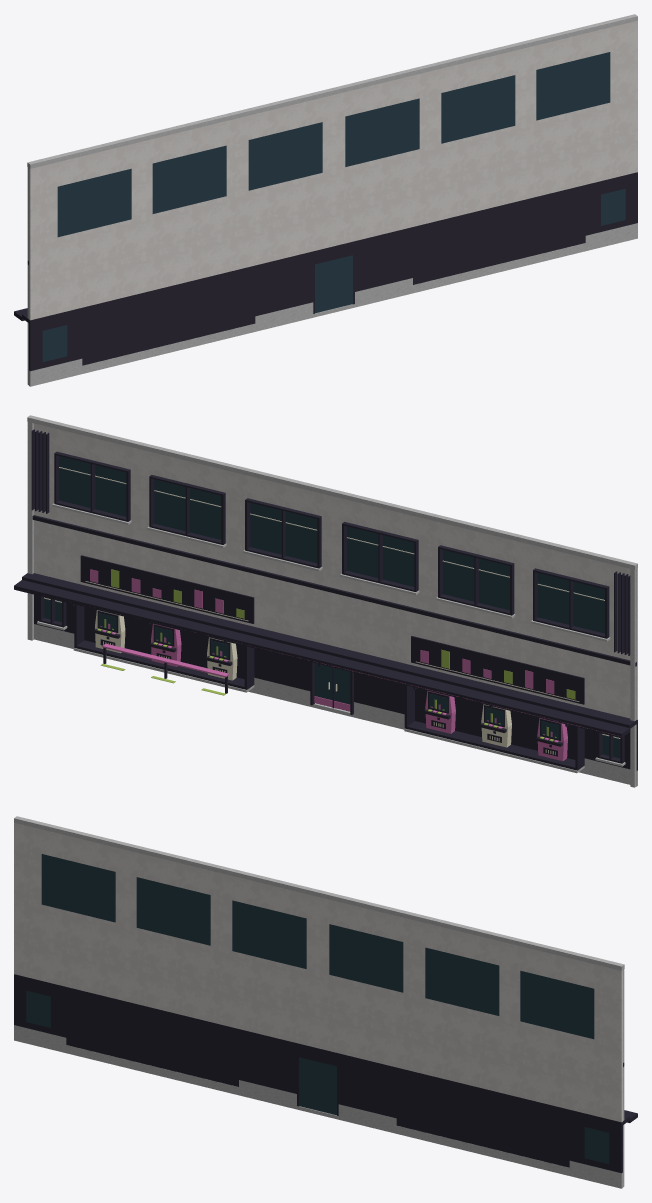
Rendered from candidate.glb.
3 views of the same model, one above another, from view 1: azimuth 30°, elevation 25°; view 2: azimuth 150°, elevation 25°; view 3: azimuth 330°, elevation 25° (orthographic).
Parts seen in each view (by area): view 1: V35_ByteBeatNorthFacade; view 2: V35_ByteBeatNorthFacade; view 3: V35_ByteBeatNorthFacade.
Boxes of the visible parts, box(x1,y1,x2,y2) form: V35_ByteBeatNorthFacade: box(14, 14, 637, 386); V35_ByteBeatNorthFacade: box(14, 415, 637, 787); V35_ByteBeatNorthFacade: box(14, 816, 637, 1188).
Size of the model in its own units: 32 by 11.18 by 1.48.
Materials: 7 (2 with a texture image).
